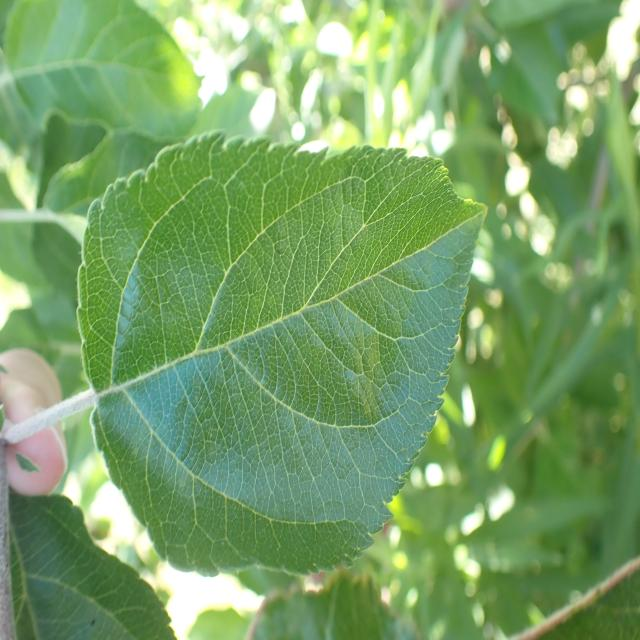healthy: (77, 130, 490, 578), (0, 0, 207, 140), (7, 489, 178, 640)
